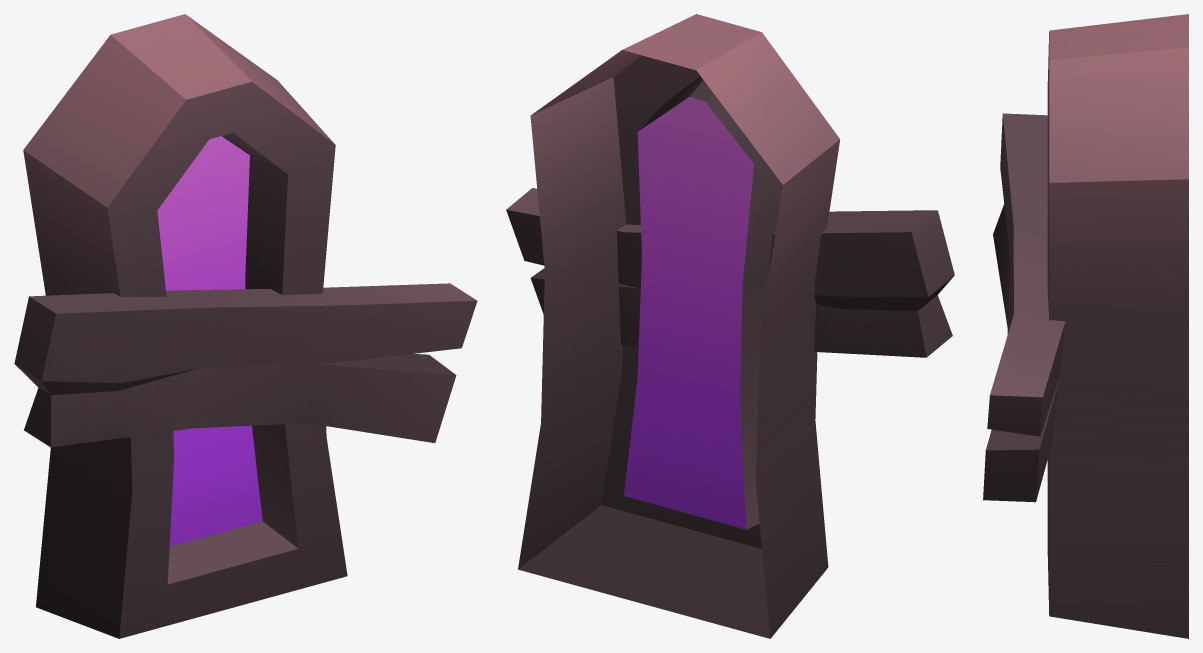
Rendered from undead_window_plank_1.fbx.
3 views of the same model, side by side, from view 1: azimuth 30°, elevation 25°; view 2: azimuth 150°, elevation 25°; view 3: azimuth 270°, elevation 25° (orthographic).
Visible parts, largest first — view 1: undead_window_plank_1; view 2: undead_window_plank_1; view 3: undead_window_plank_1.
Part boxes in pixels (<box>): undead_window_plank_1: <box>14,14,477,638</box>; undead_window_plank_1: <box>506,14,954,638</box>; undead_window_plank_1: <box>983,14,1188,638</box>.
Size of the model in its own units: 1.6 by 1.98 by 0.6724.
